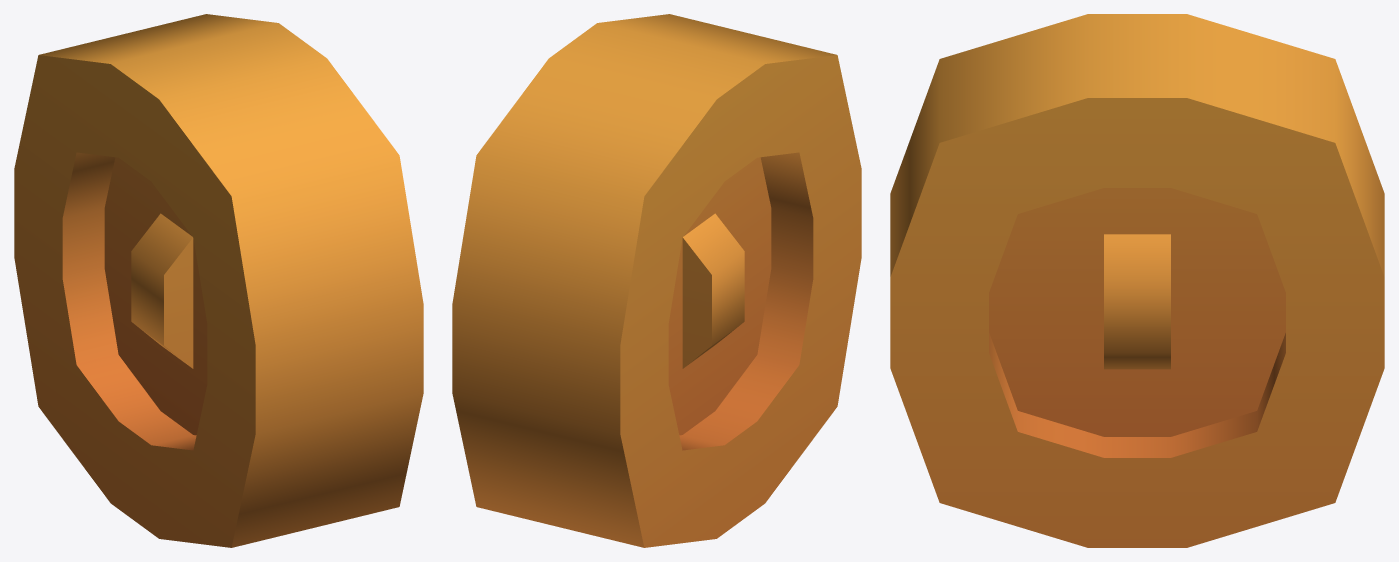
Rendered from Coin.fbx.
3 views of the same model, side by side, from view 1: azimuth 30°, elevation 25°; view 2: azimuth 150°, elevation 25°; view 3: azimuth 270°, elevation 25° (orthographic). The views are drawn at different scales.
Parts seen in each view (by area): view 1: coin; view 2: coin; view 3: coin.
Part boxes in pixels (<box>): coin: <box>14,14,423,547</box>; coin: <box>452,14,861,547</box>; coin: <box>890,14,1384,547</box>.
Bounding box in the file's own units: 16.67 × 41.67 × 41.5.
